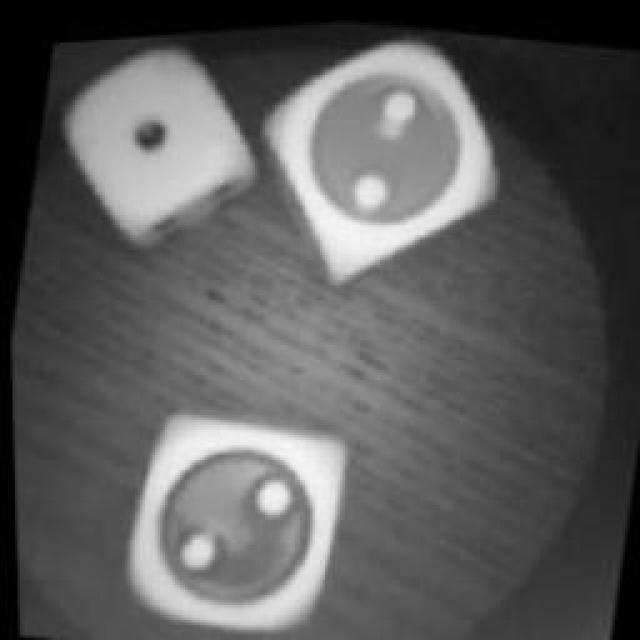dice_1: (30, 22, 275, 246)
dice_2: (229, 8, 519, 294), (98, 372, 362, 640)
